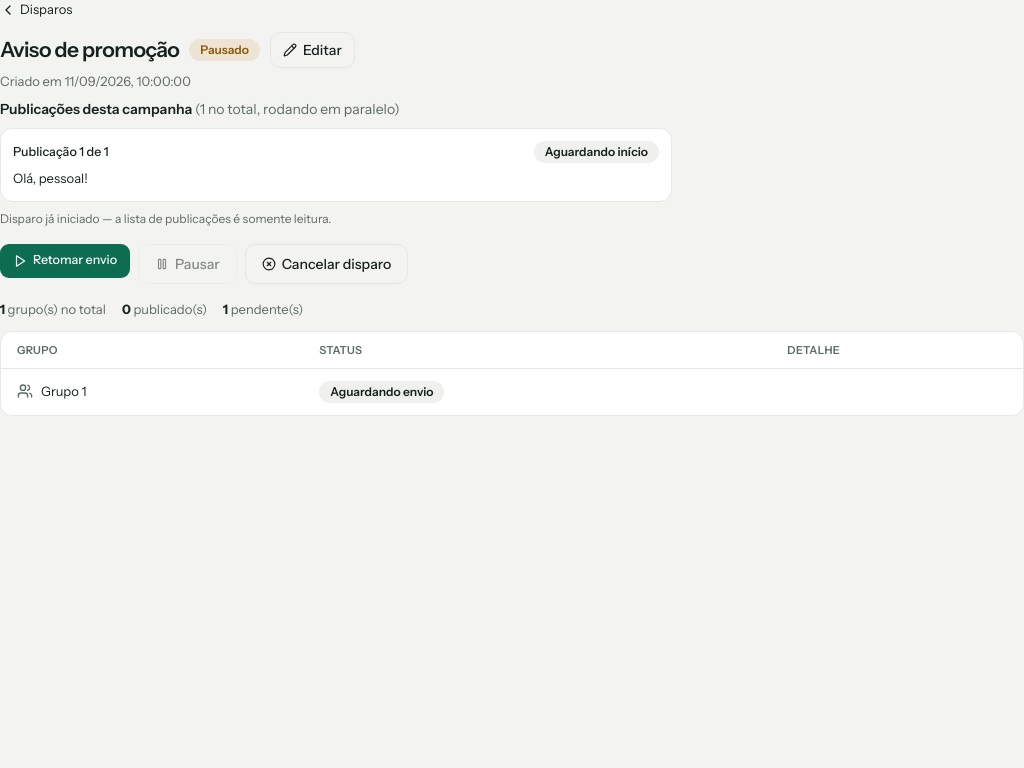
Test: GroupBroadcastDetailPanel — editar e retomar-com-escolha (Task 9, 2026-09-15) › diálogo de retomada só oferece a escolha quando alguma etapa ativa tem nextRunAt futuro
Expected: the heading "Aviso de promoção" is shown, top-left (0, 34), bottom-right (179, 66)
Click the button "Retomar envio": (65,261) top-left (0, 244), bottom-right (130, 278)
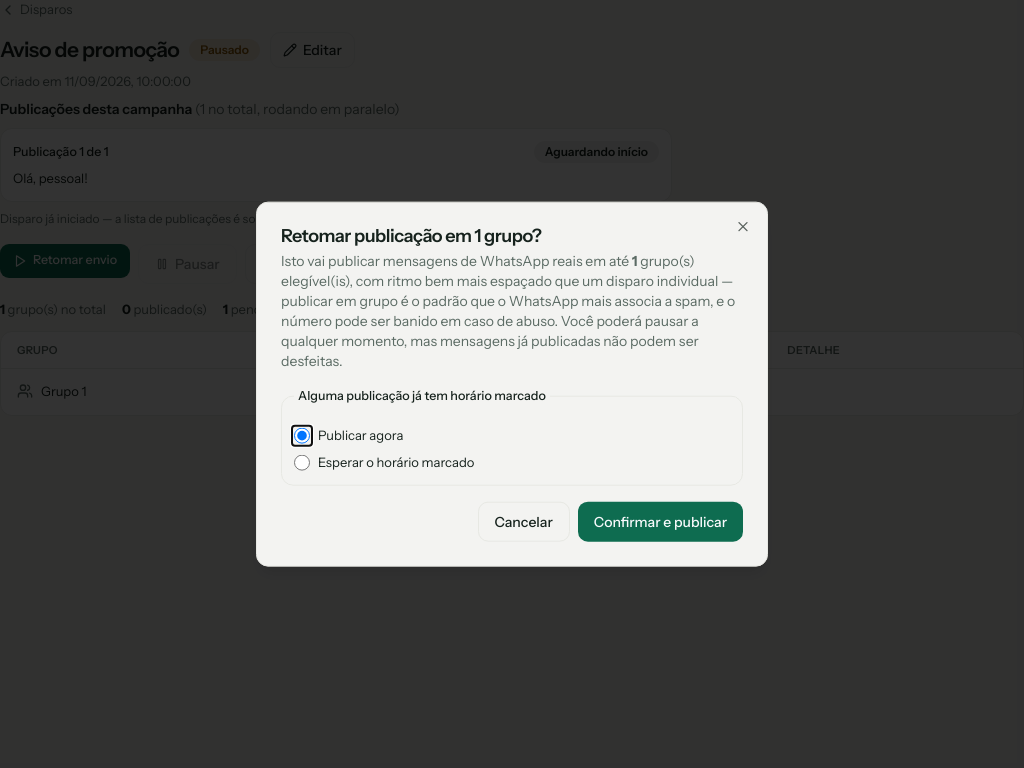
Expected: the text "Publicar agora" is shown, top-left (294, 426), bottom-right (403, 443)
Expected: the text "Esperar o horário marcado" is shown, top-left (294, 454), bottom-right (474, 471)
